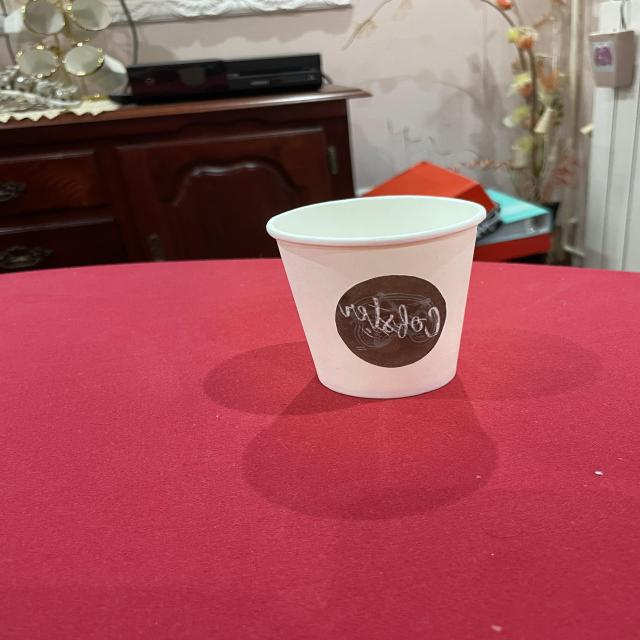small: (263, 192, 489, 402)
